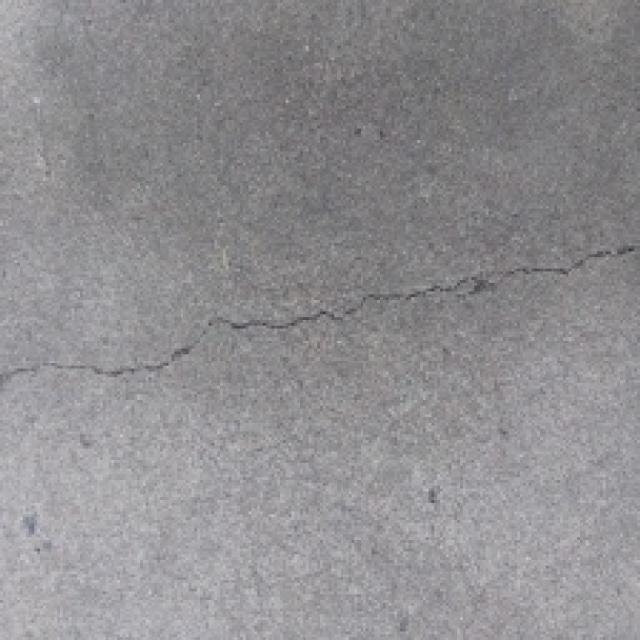crack: (0, 214, 640, 420)
